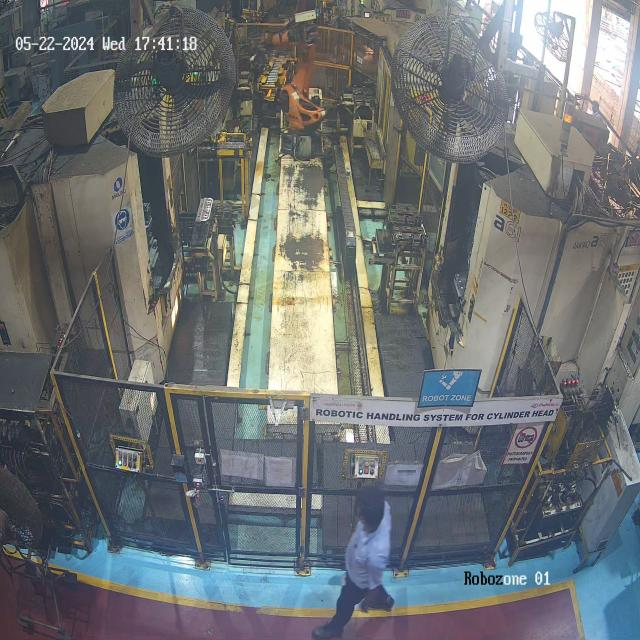person: (312, 470, 394, 640)
